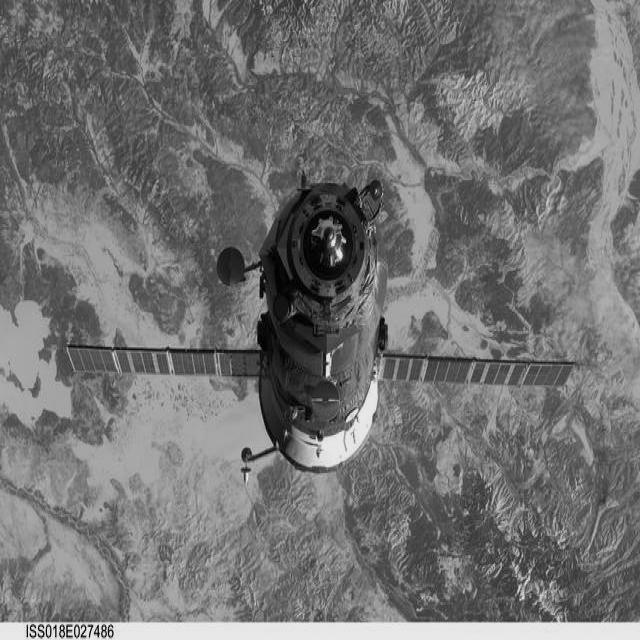satellite: (62, 168, 580, 509)
